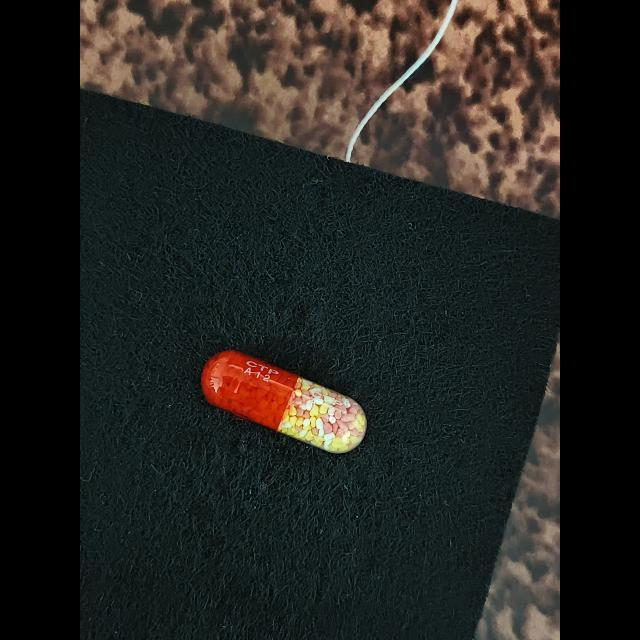Intact Capsule: (201, 350, 367, 453)
